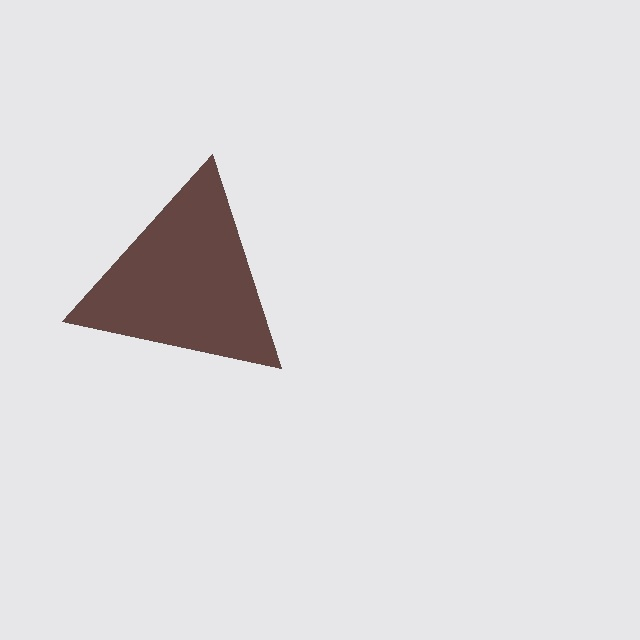triangle: (62, 154, 282, 369)
